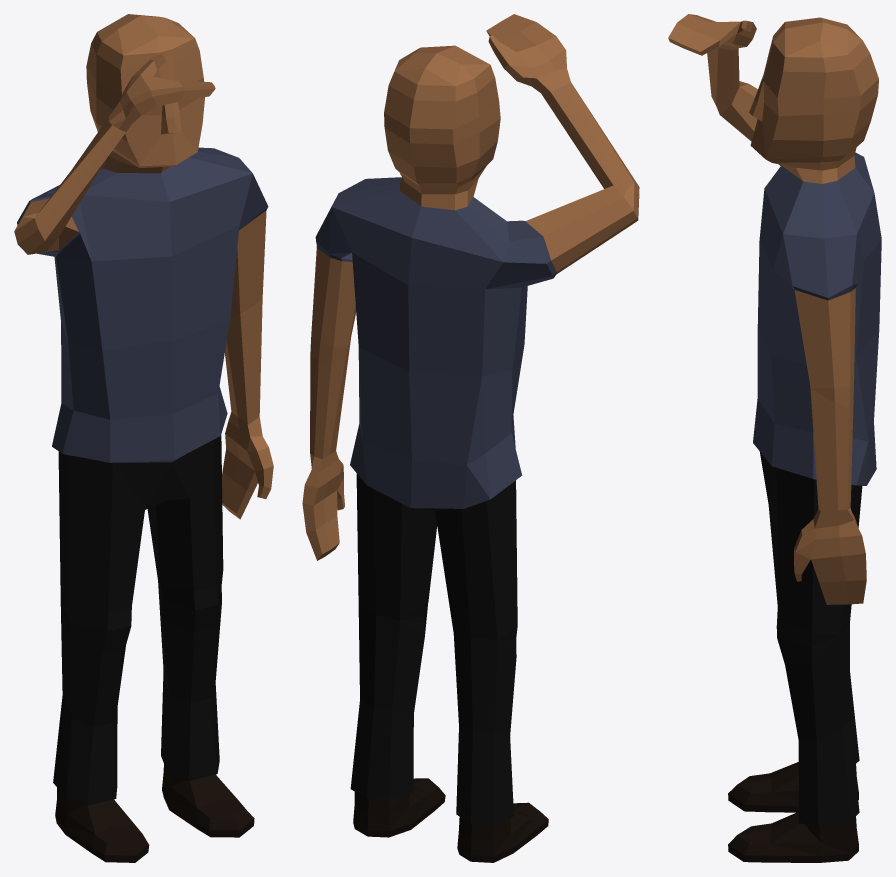
File: Male_Standing_CoveringEyes.obj
3 renders of one model, left to right at view 1: azimuth 30°, elevation 25°; view 2: azimuth 150°, elevation 25°; view 3: azimuth 270°, elevation 25°, orthographic. The views are drawn at different scales.
Parts seen in each view (by area): view 1: Male_Standing_CoveringEyes_Human_CylinderMesh.007; view 2: Male_Standing_CoveringEyes_Human_CylinderMesh.007; view 3: Male_Standing_CoveringEyes_Human_CylinderMesh.007.
Boxes of the visible parts, x1=… form: Male_Standing_CoveringEyes_Human_CylinderMesh.007: x1=14, y1=14, x2=273, y2=862; Male_Standing_CoveringEyes_Human_CylinderMesh.007: x1=302, y1=14, x2=639, y2=862; Male_Standing_CoveringEyes_Human_CylinderMesh.007: x1=668, y1=14, x2=881, y2=862.
Size of the model in its own units: 1.44 by 3.85 by 0.9277.
